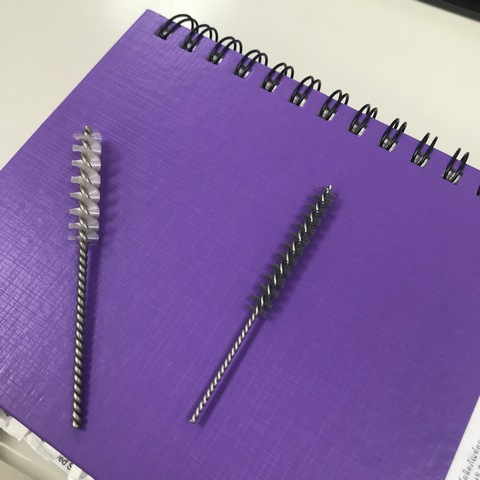Twist Brush-A: (188, 190, 346, 425)
Twist Brush-B: (64, 121, 110, 430)
